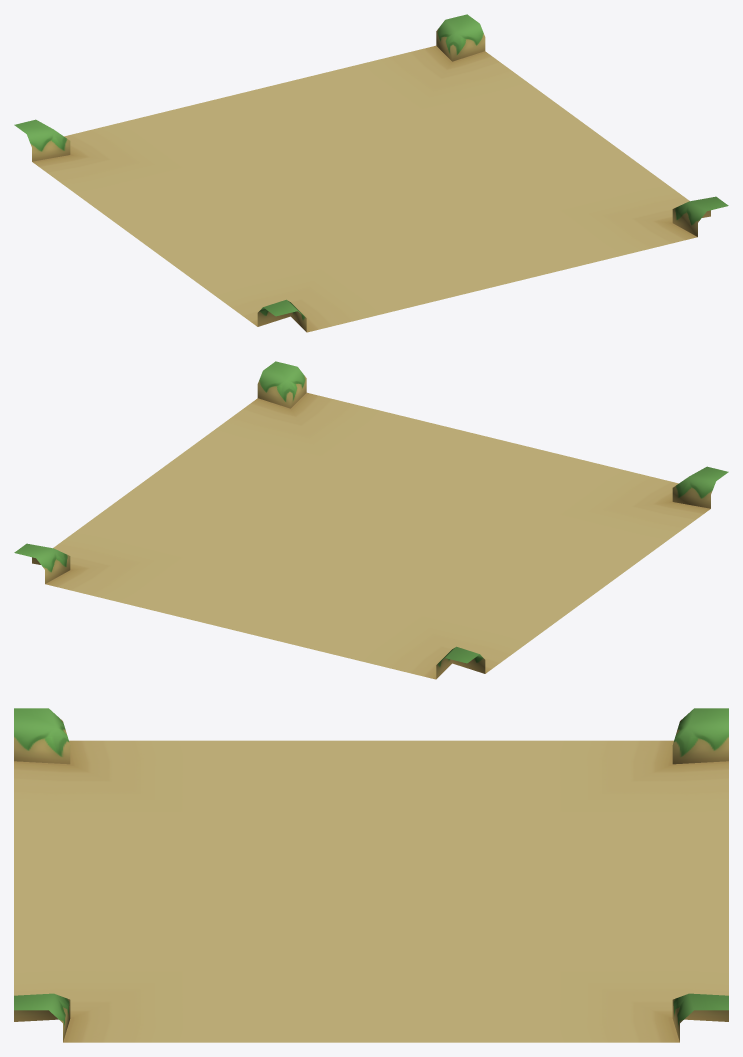
Rendered from Tile010.FBX.
3 renders of one model, top to bottom at view 1: azimuth 30°, elevation 25°; view 2: azimuth 150°, elevation 25°; view 3: azimuth 270°, elevation 25°, orthographic. The views are drawn at different scales.
Parts seen in each view (by area): view 1: Tile010; view 2: Tile010; view 3: Tile010.
Part boxes in pixels (x1,y1,x2,y2): Tile010: (14, 14, 728, 332); Tile010: (14, 361, 728, 679); Tile010: (14, 708, 728, 1042).
Size of the model in its own units: 500 by 25 by 500.
